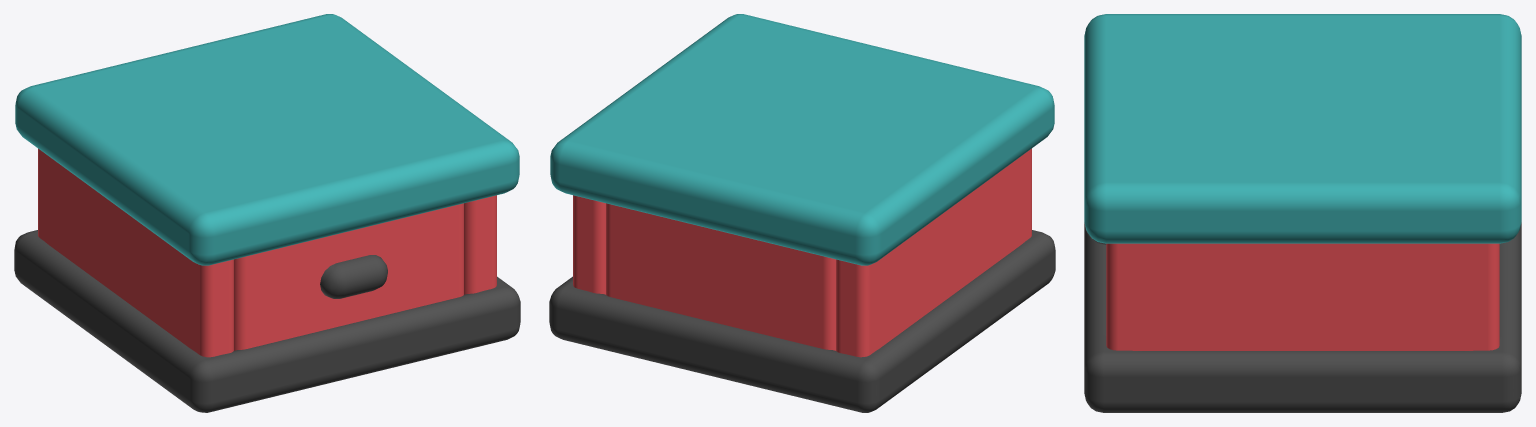
Rendered from PlateStation.fbx.
3 renders of one model, left to right at view 1: azimuth 30°, elevation 25°; view 2: azimuth 150°, elevation 25°; view 3: azimuth 270°, elevation 25°, orthographic. The views are drawn at different scales.
Visible parts, largest first — view 1: PlateStation; view 2: PlateStation; view 3: PlateStation.
Boxes of the visible parts, left/top/right/bottom form: PlateStation: left=14, top=14, right=520, bottom=412; PlateStation: left=549, top=14, right=1055, bottom=412; PlateStation: left=1084, top=14, right=1521, bottom=412.
Size of the model in its own units: 200 by 115 by 200.
